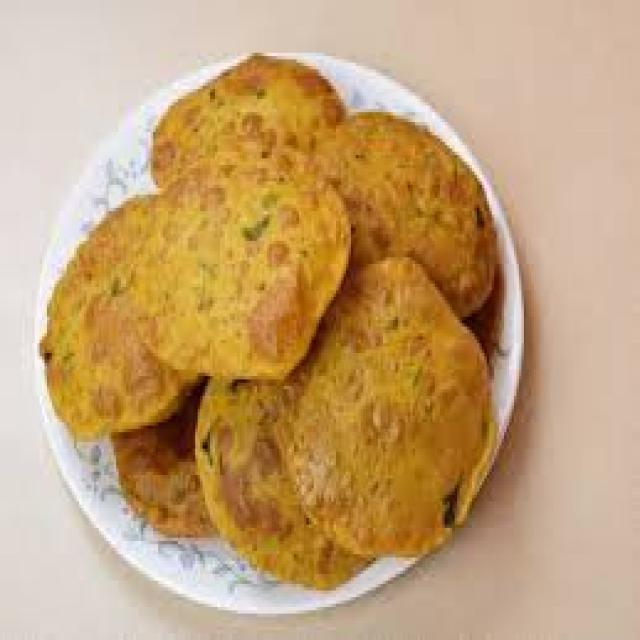puri: (85, 99, 505, 565)
